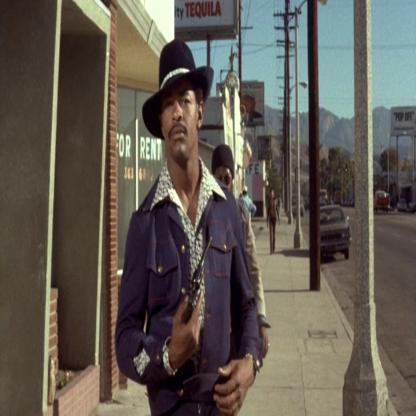gun: (177, 232, 219, 339)
